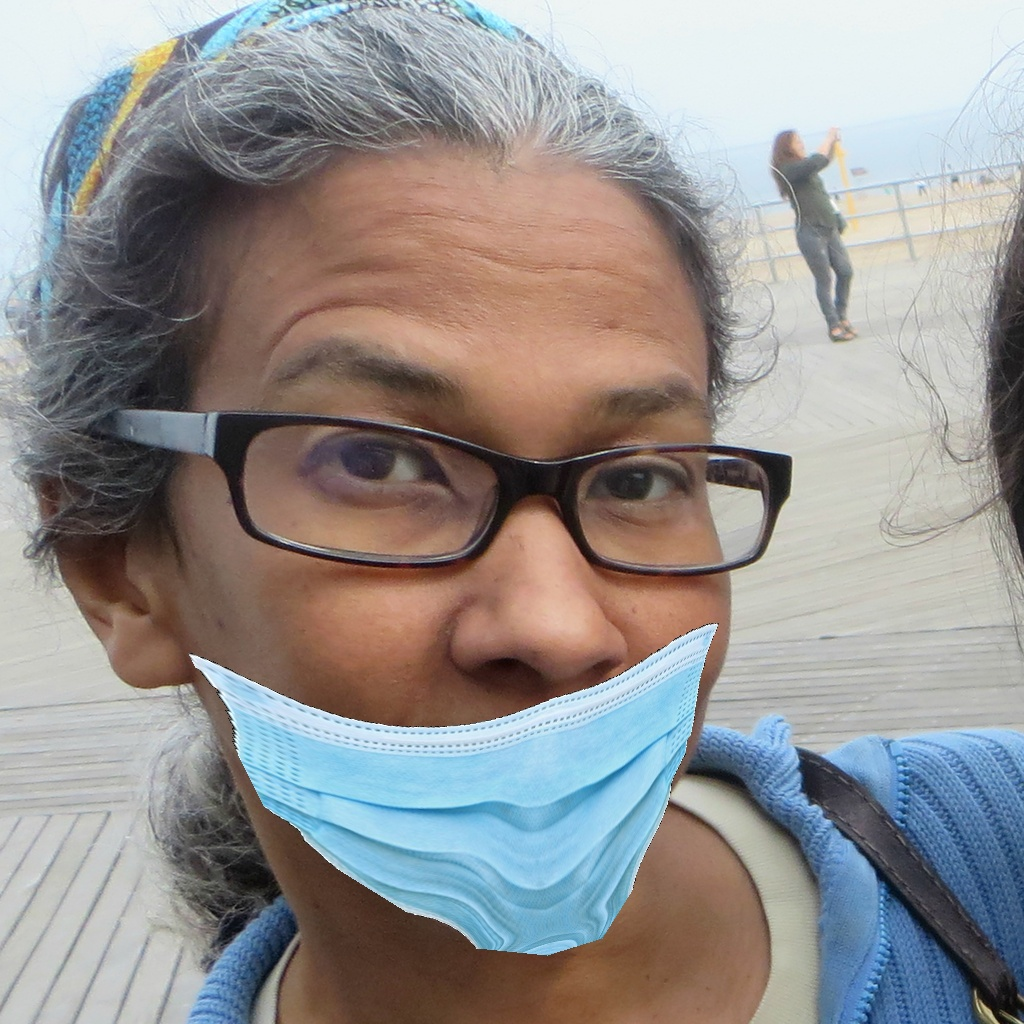mask_weared_incorrect: (209, 398, 729, 963)
